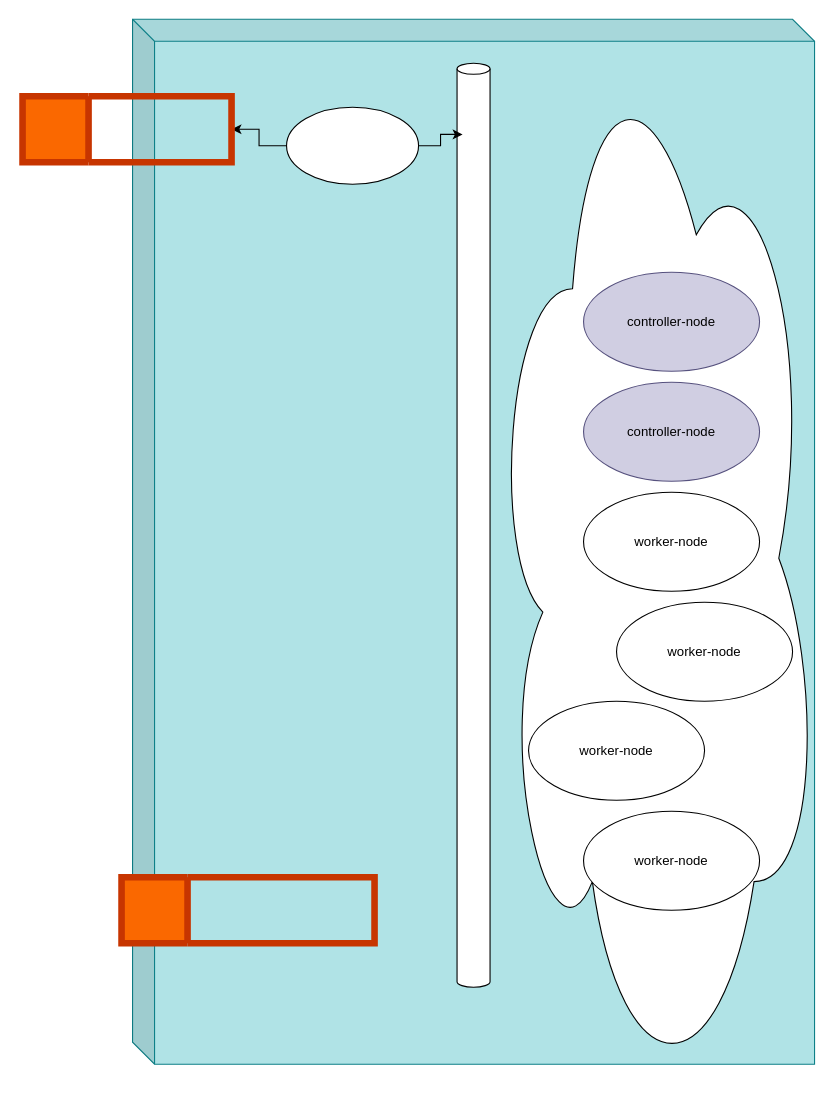
The diagram is 839 pixels wide and 1117 high, and some of its shapes have lost their labels. The centre of each missing label's shape, as x and y in pixels:
"network interface 1" belongs at pixel 247 909.
"network interface loopback" belongs at pixel 126 128.
